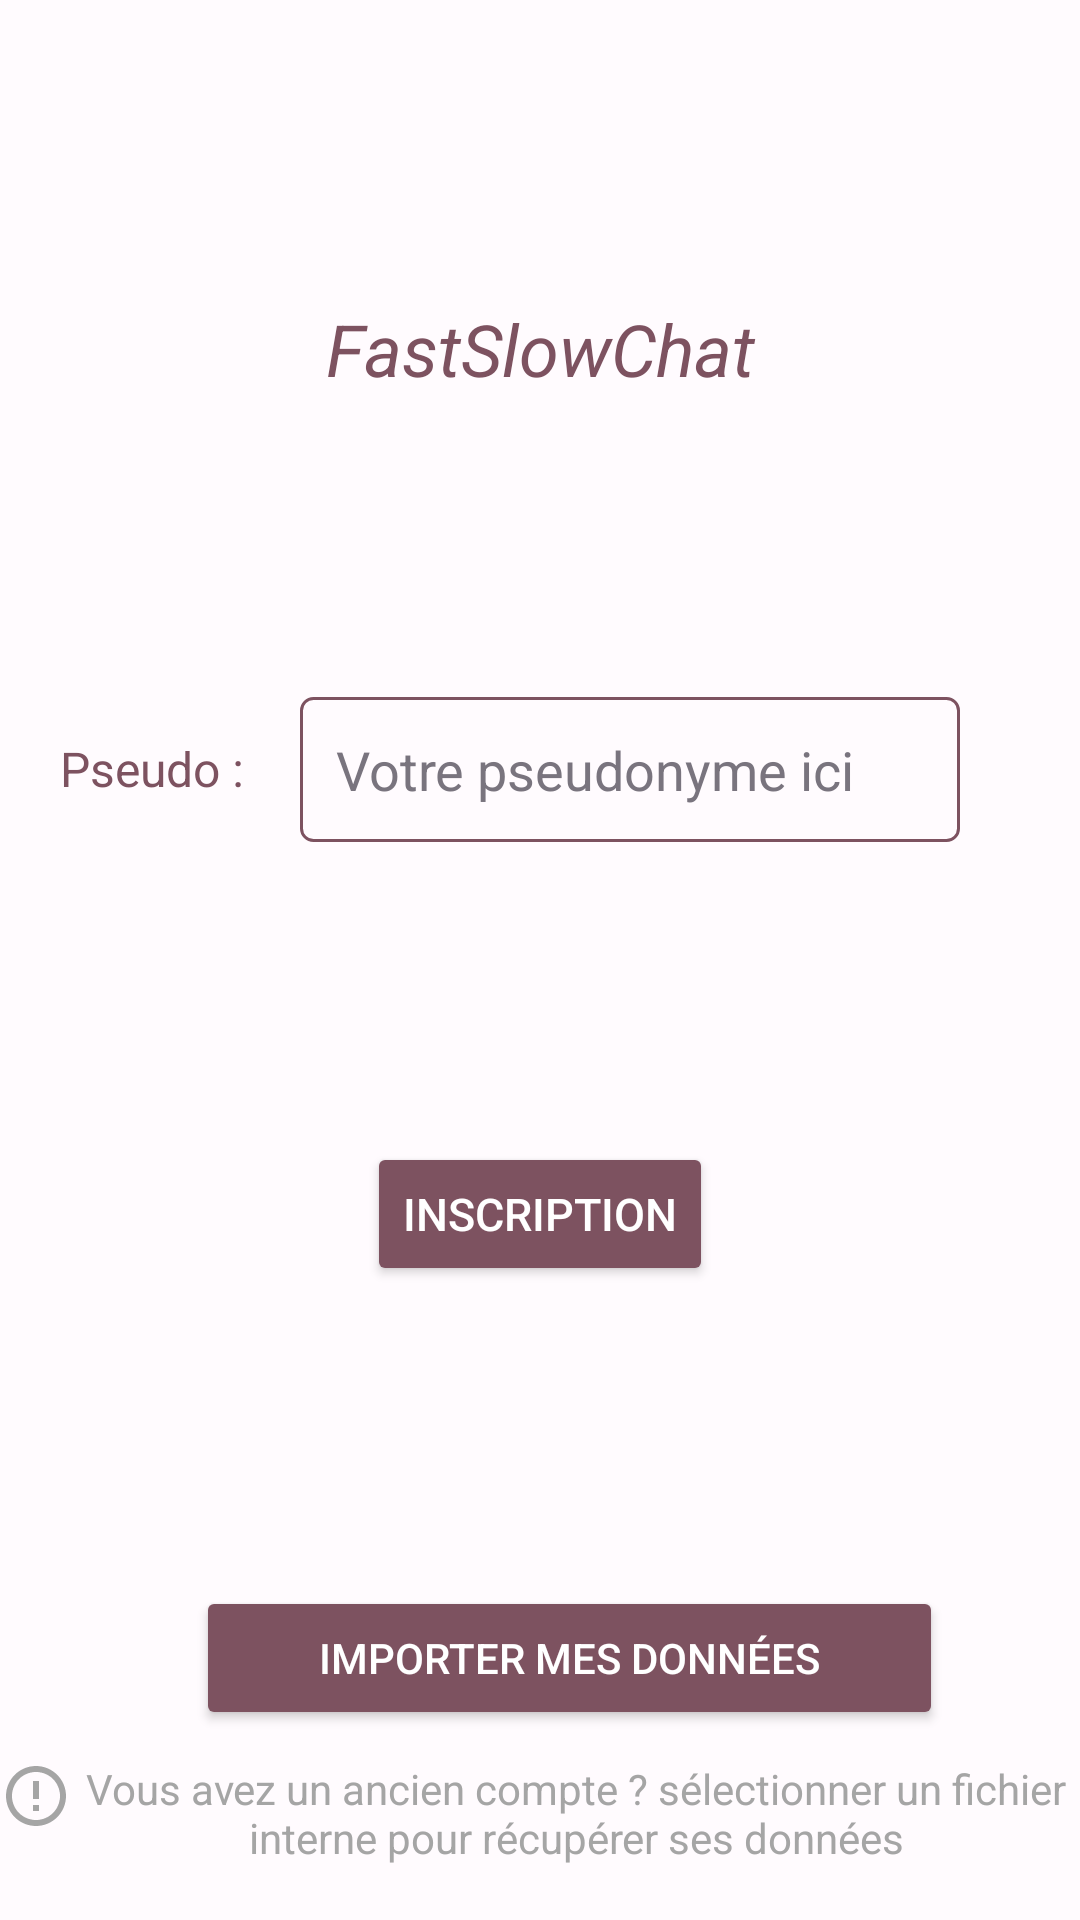

Where to tap for icons on this 1080 × 1920 app screen, as [x,y]:
information: [36,1796]
